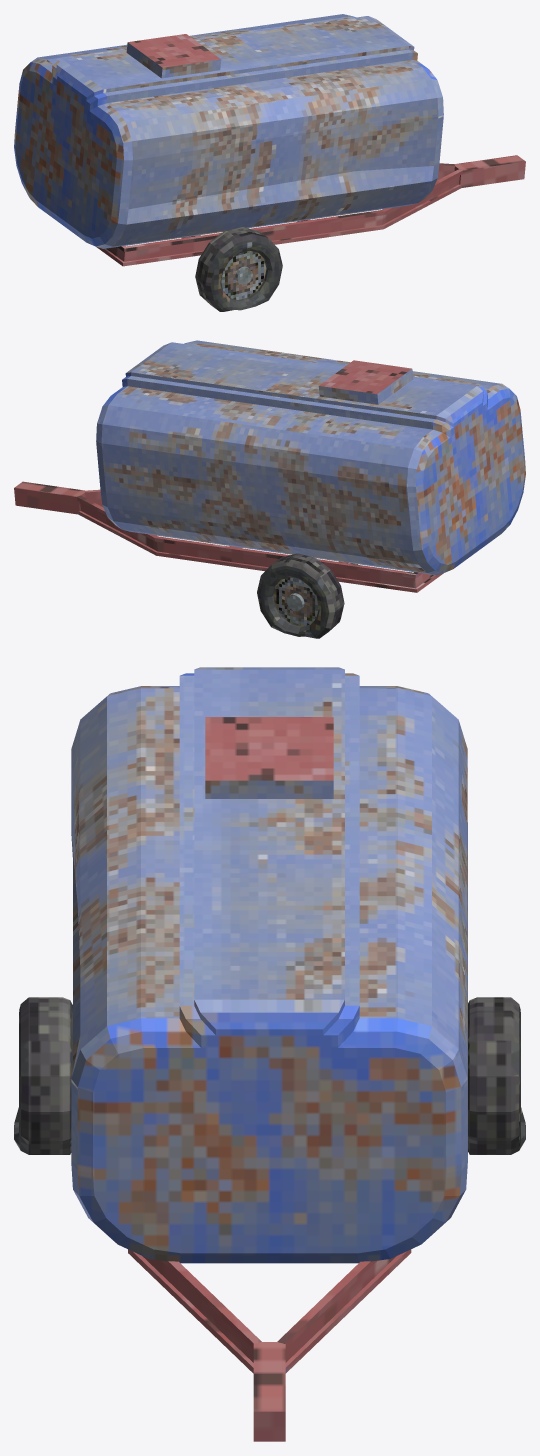
Rendered from Bote de Agua.fbx.
3 renders of one model, top to bottom at view 1: azimuth 30°, elevation 25°; view 2: azimuth 150°, elevation 25°; view 3: azimuth 270°, elevation 25°, orthographic. The views are drawn at different scales.
Visible parts, largest first — view 1: water-tank; view 2: water-tank; view 3: water-tank.
Boxes of the visible parts, <box> form: water-tank: <box>14,14,525,311</box>; water-tank: <box>14,340,525,638</box>; water-tank: <box>14,667,525,1441</box>.
Size of the model in its own units: 1894 by 833 by 993.
Materials: 1 (1 with a texture image).
